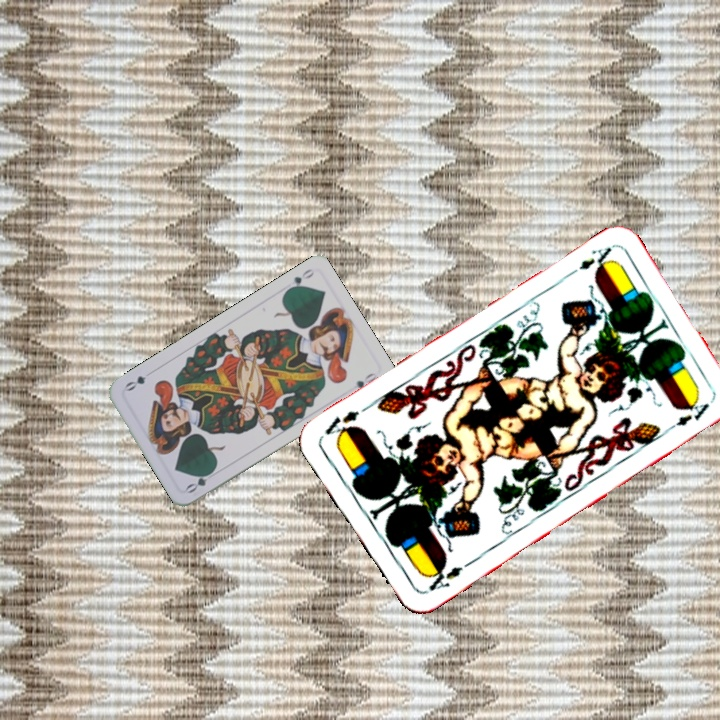EA: (562, 243, 616, 280), (421, 561, 465, 594)
GO: (182, 465, 219, 496), (281, 264, 317, 295)
